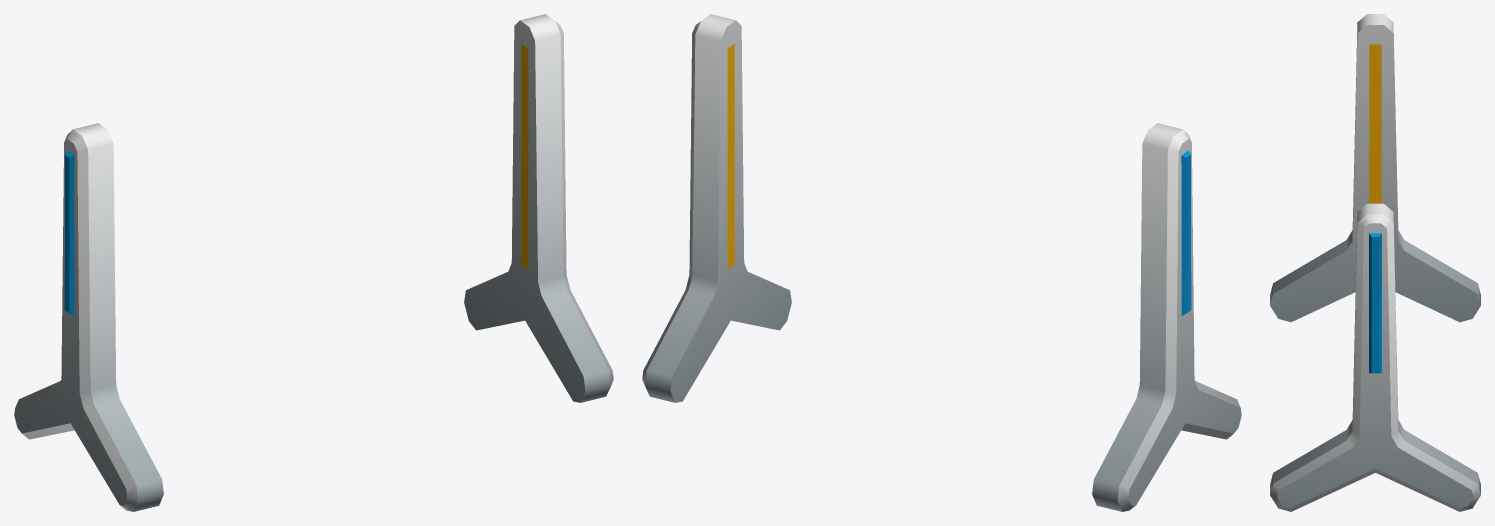
Rendered from Barriaer_008.fbx.
3 renders of one model, left to right at view 1: azimuth 30°, elevation 25°; view 2: azimuth 150°, elevation 25°; view 3: azimuth 270°, elevation 25°, orthographic. The views are drawn at different scales.
Parts seen in each view (by area): view 1: Barriaer_008; view 2: Barriaer_008; view 3: Barriaer_008.
Part boxes in pixels (x1,y1,x2,y2): Barriaer_008: [14, 14, 613, 511]; Barriaer_008: [642, 14, 1241, 511]; Barriaer_008: [1270, 14, 1480, 511].
Size of the model in its own units: 155 by 65.79 by 102.
